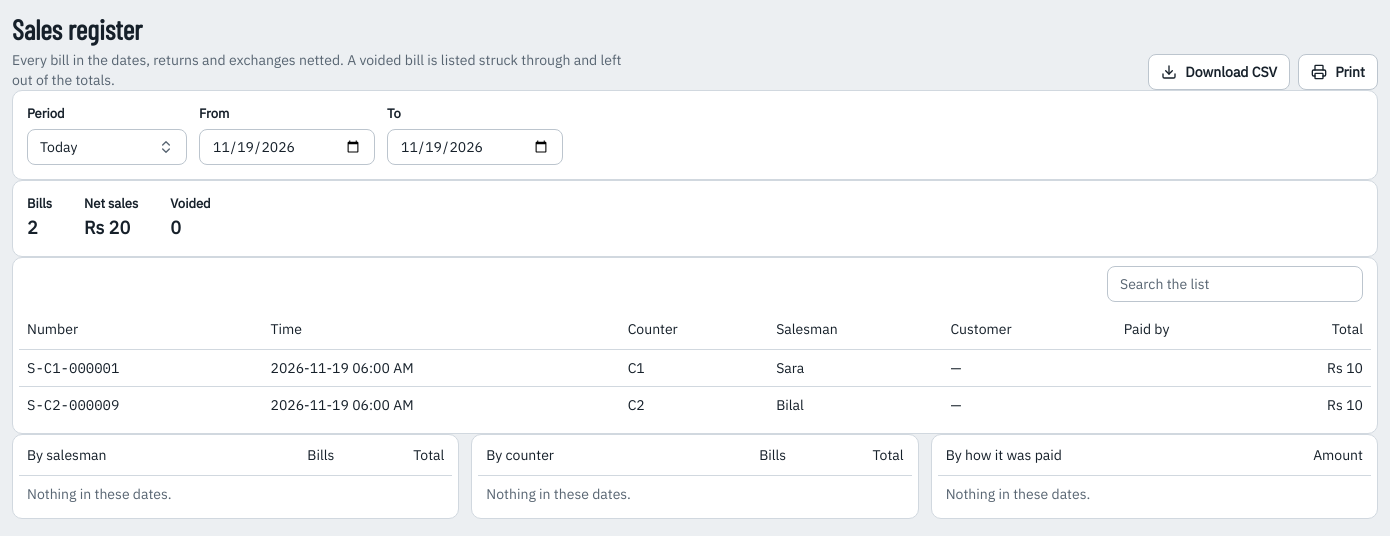
the sales register › opens a bill's details from its number, and narrows the bills by a search
In the search field labelled "Search the list": point(1235, 284) [1107,266,1363,302], type "bilal"
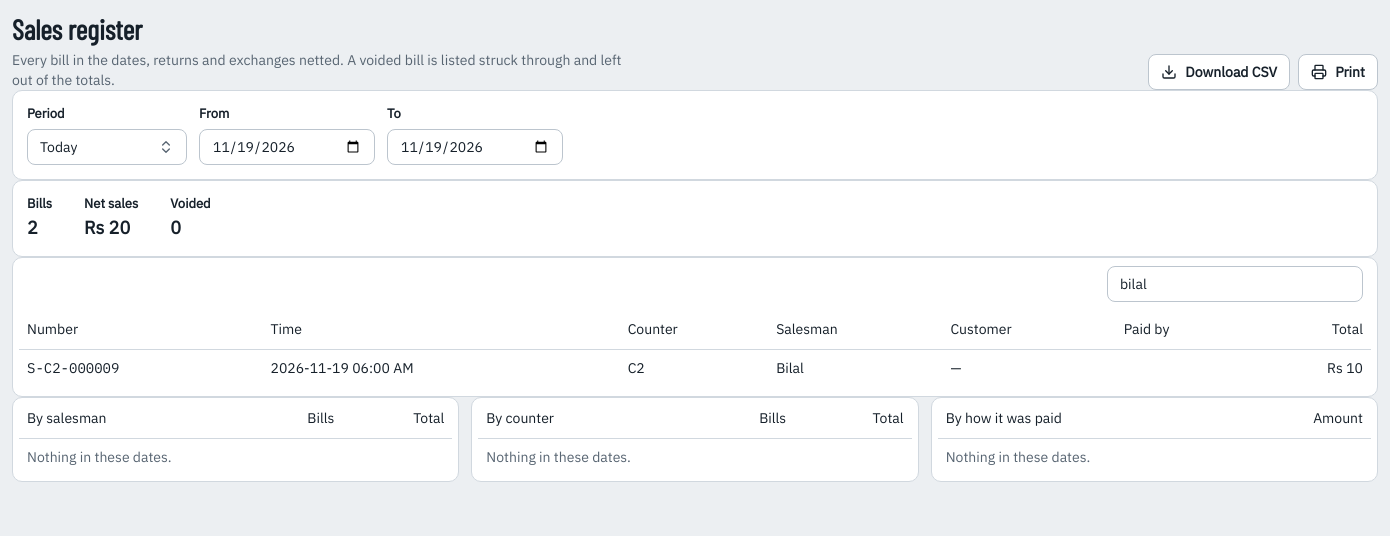
Expected: the link "S-C2-000009" is shown, [27,359,119,377]
Result: the link "S-C1-000001" is gone
